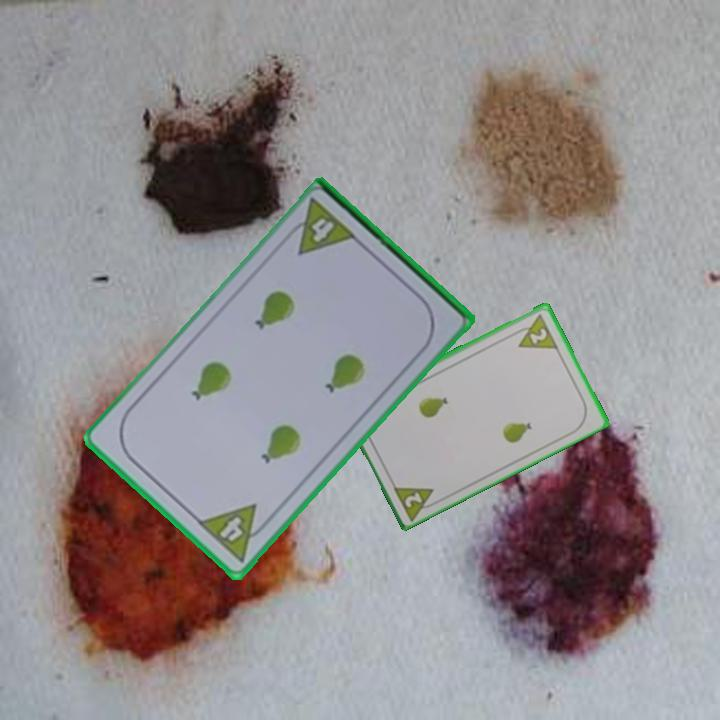2p: (389, 480, 442, 522), (509, 310, 561, 352)
4p: (194, 500, 275, 566), (280, 196, 361, 258)
